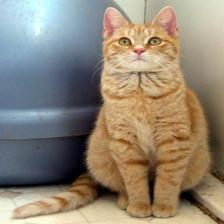cat: (99, 4, 195, 84)
